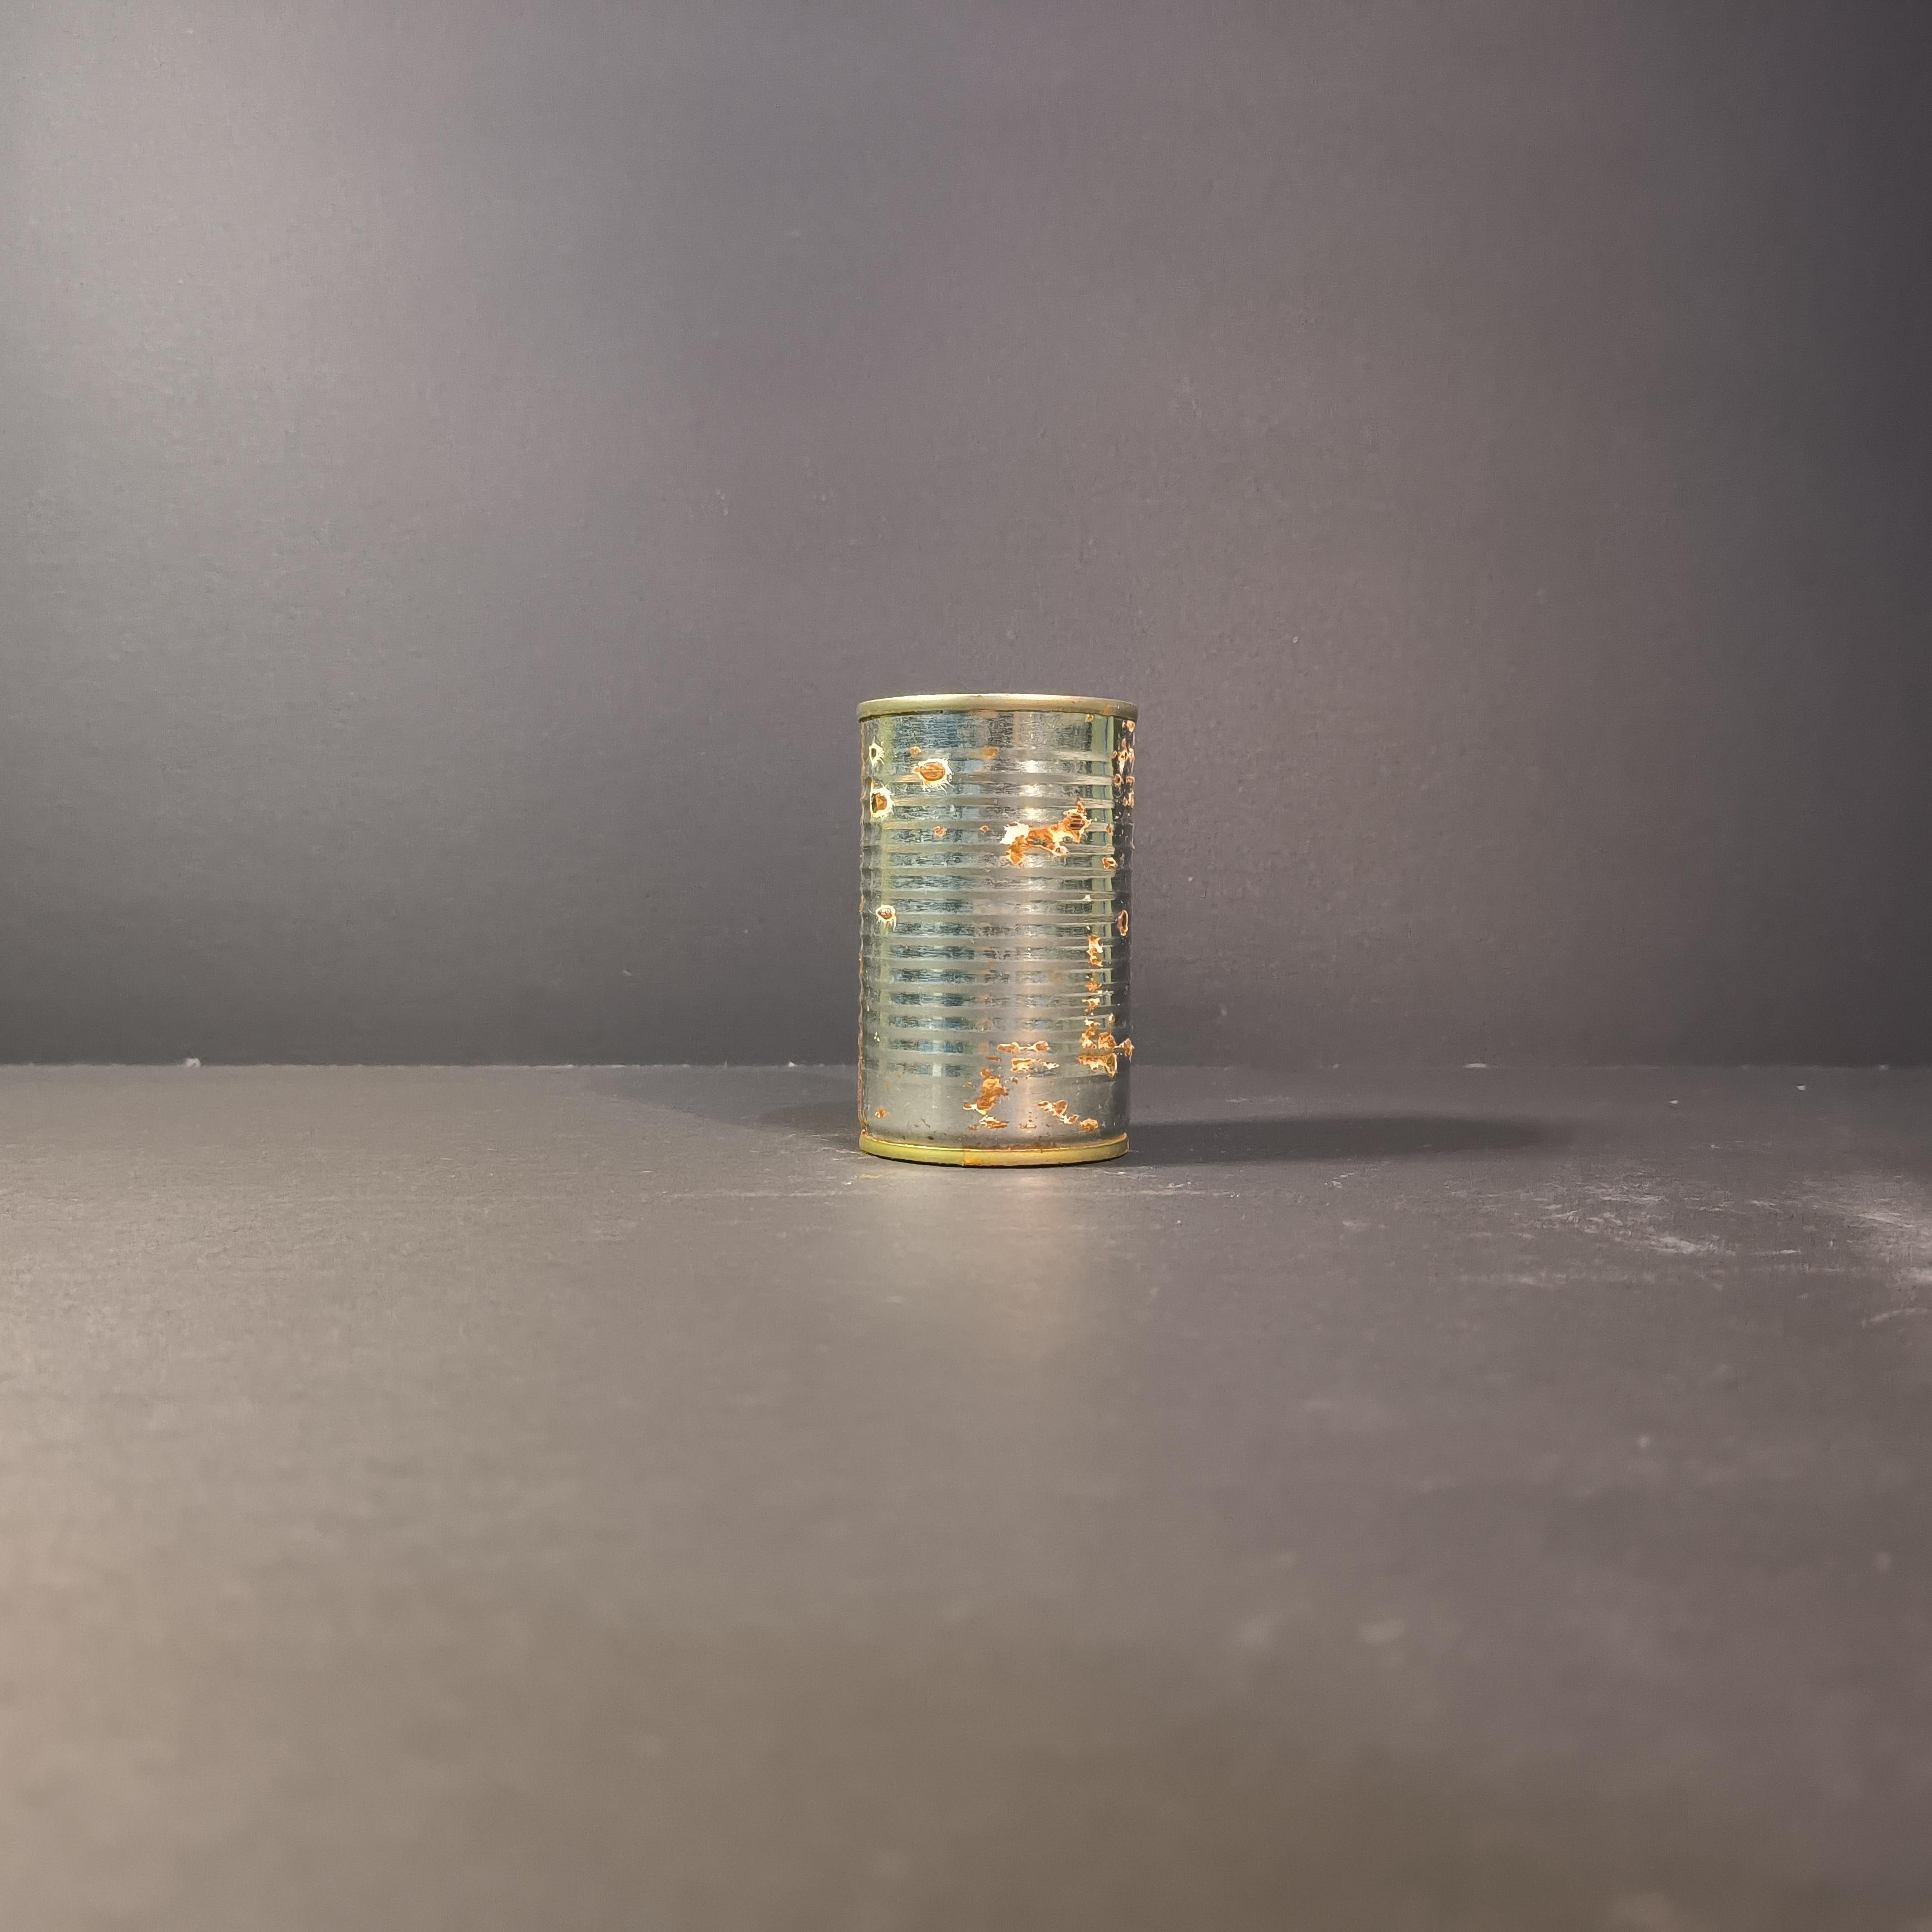Rusted: (840, 679, 1157, 1187)
